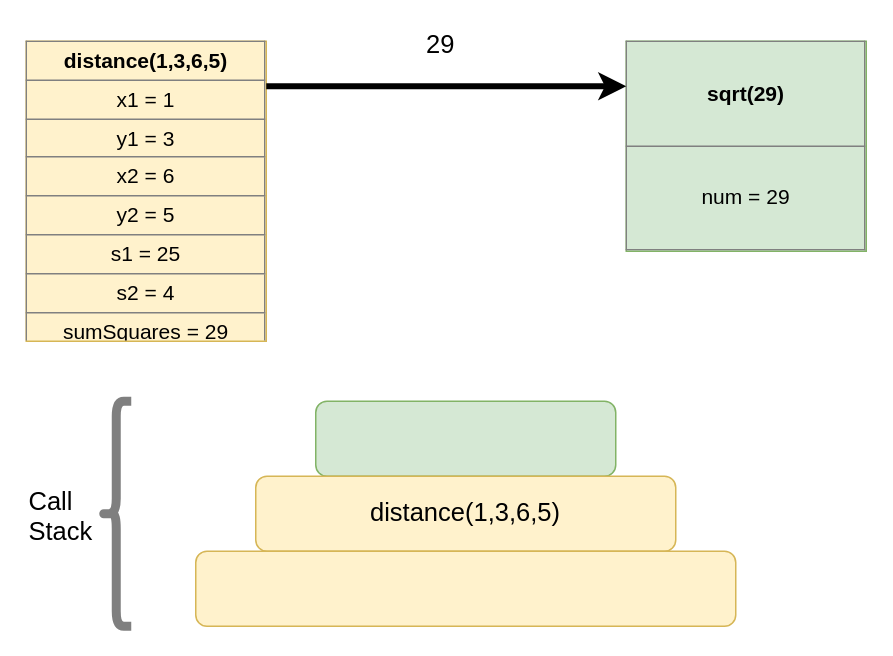
This 893x656 diagram has some shape labels left out. Here are the shapes that lost their labels. From the top down, the centre of each, then its label:
At (x=465, y=438): "sqrt(29)".
At (x=465, y=588): "setup()".
